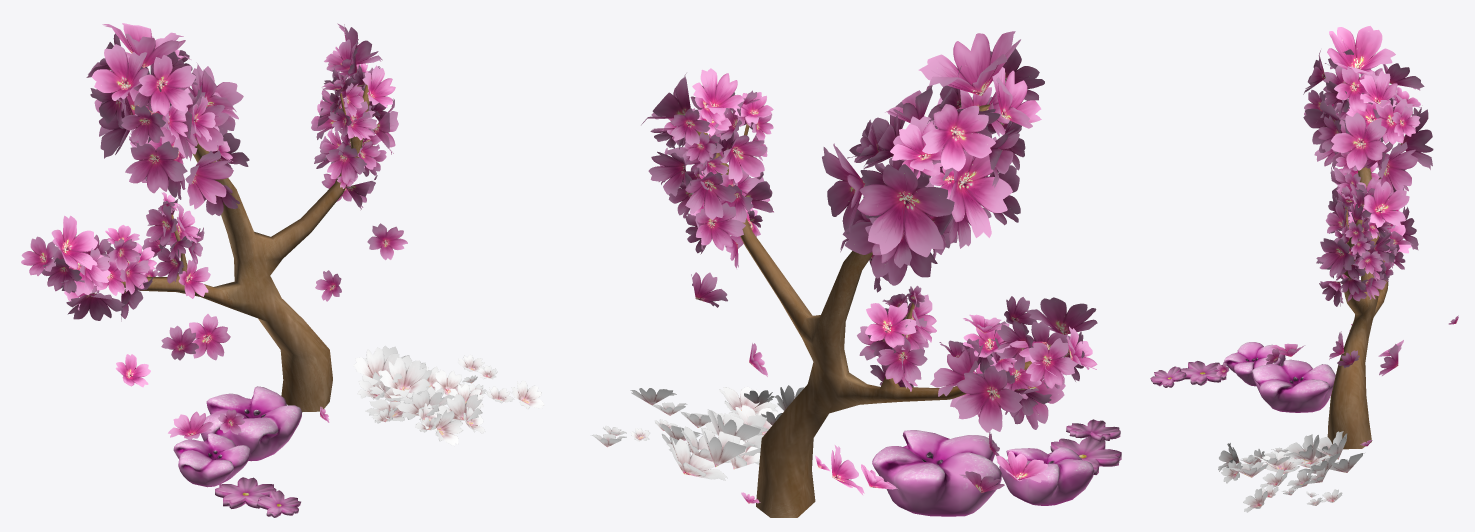
The model's file is blossom.fbx.
3 renders of one model, left to right at view 1: azimuth 30°, elevation 25°; view 2: azimuth 150°, elevation 25°; view 3: azimuth 270°, elevation 25°, orthographic. The views are drawn at different scales.
Visible parts, largest first — view 1: blossom; view 2: blossom; view 3: blossom.
Part boxes in pixels (<box>): blossom: <box>21,23,544,517</box>; blossom: <box>591,31,1121,517</box>; blossom: <box>1150,26,1458,512</box>.
Size of the model in its own units: 121 by 109 by 87.08.
